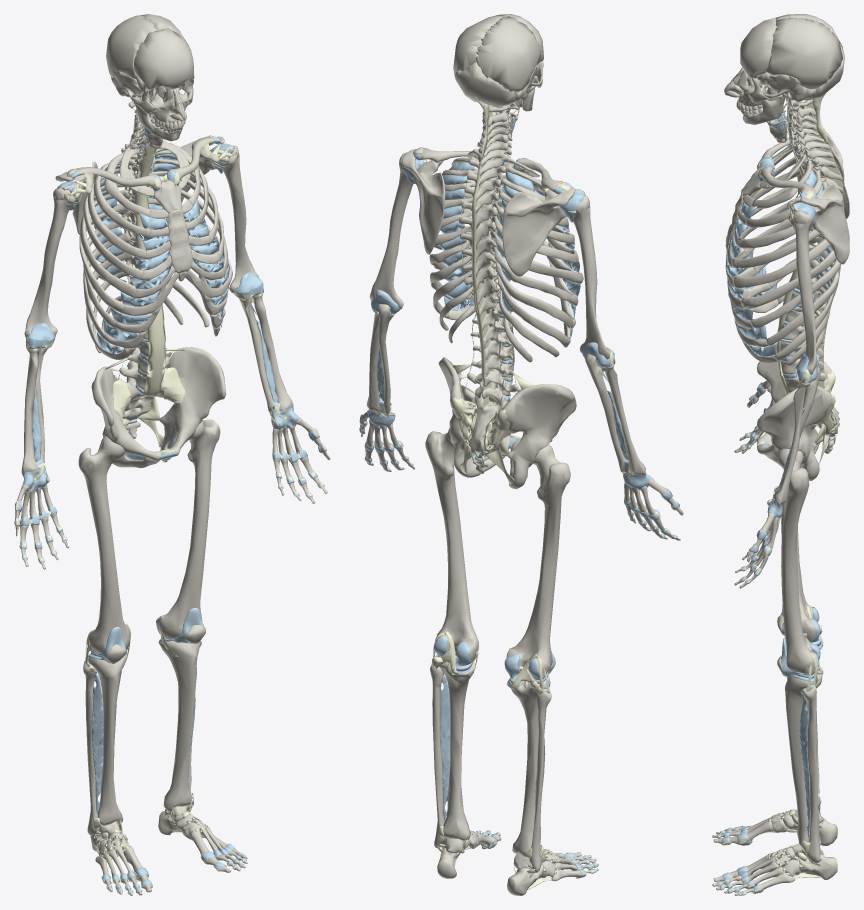
The model's file is skeletal.glb.
3 renders of one model, left to right at view 1: azimuth 30°, elevation 25°; view 2: azimuth 150°, elevation 25°; view 3: azimuth 270°, elevation 25°, orthographic. The views are drawn at different scales.
Visible parts, largest first — view 1: Thigh, Thigh.001x, Hip bone, Tibial, Frontal bone, Tibial.001x, External intercostal membrane, Hip bone.001x, Anterior longitudinal ligament, Humerus, Parietal bone, Humerus.001x (+18 smaller); view 2: Thigh, Thigh.001x, Hip bone.001x, Scapula, Parietal bone, Tibial, Tibial.001x, Scapula.001x, Humerus, Humerus.001x, Internal intercostal membrane, Hip bone (+21 smaller); view 3: Thigh.001x, Parietal bone.001x, Hip bone, Tibial, Humerus.001x, Scapula.001x, Fibular, External intercostal membrane.001x, Frontal bone, Radius, Hip bone.001x, Seventh rib (+26 smaller).
Boxes of the visible parts, x1=… form: Thigh: x1=78, y1=436, x2=130, y2=654; Thigh.001x: x1=156, y1=419, x2=220, y2=638; Hip bone: x1=159, y1=347, x2=226, y2=462; Tibial: x1=158, y1=640, x2=200, y2=811; Frontal bone: x1=134, y1=28, x2=194, y2=91; Tibial.001x: x1=88, y1=652, x2=127, y2=825; External intercostal membrane: x1=96, y1=213, x2=171, y2=353; Hip bone.001x: x1=91, y1=366, x2=161, y2=468; Anterior longitudinal ligament: x1=134, y1=114, x2=165, y2=398; Humerus: x1=24, y1=188, x2=75, y2=337; Parietal bone: x1=106, y1=15, x2=158, y2=79; Humerus.001x: x1=223, y1=145, x2=258, y2=292; Thigh: x1=506, y1=444, x2=570, y2=676; Thigh.001x: x1=425, y1=428, x2=478, y2=661; Hip bone.001x: x1=497, y1=384, x2=576, y2=489; Scapula: x1=502, y1=186, x2=575, y2=276; Parietal bone: x1=476, y1=16, x2=540, y2=93; Tibial: x1=439, y1=659, x2=475, y2=840; Tibial.001x: x1=507, y1=679, x2=550, y2=856; Scapula.001x: x1=401, y1=149, x2=445, y2=254; Humerus: x1=573, y1=195, x2=610, y2=359; Humerus.001x: x1=369, y1=152, x2=413, y2=311; Internal intercostal membrane: x1=440, y1=162, x2=474, y2=305; Hip bone: x1=438, y1=357, x2=510, y2=477; Thigh.001x: x1=777, y1=448, x2=818, y2=673; Parietal bone.001x: x1=765, y1=17, x2=842, y2=89; Hip bone: x1=757, y1=386, x2=833, y2=480; Tibial: x1=785, y1=675, x2=821, y2=845; Humerus.001x: x1=788, y1=210, x2=817, y2=374; Scapula.001x: x1=787, y1=183, x2=849, y2=264; Fibular: x1=803, y1=686, x2=820, y2=863; External intercostal membrane.001x: x1=725, y1=202, x2=777, y2=356; Frontal bone: x1=740, y1=17, x2=776, y2=78; Radius: x1=773, y1=382, x2=810, y2=506; Hip bone.001x: x1=757, y1=350, x2=835, y2=453; Seventh rib: x1=741, y1=250, x2=836, y2=308.
Size of the model in its own units: 4.69 by 11.88 by 1.75.
